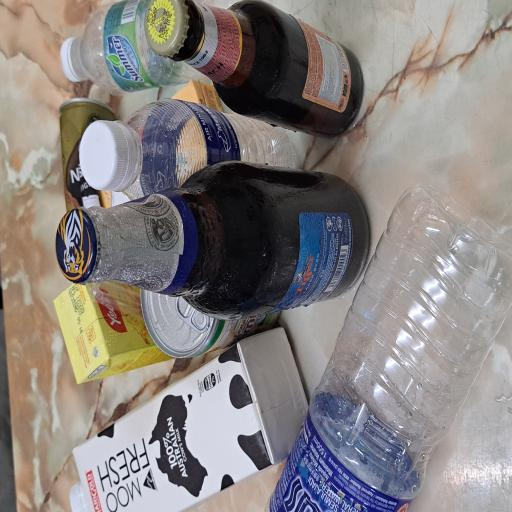can: (114, 184, 173, 378), (213, 78, 311, 152)
drink carton: (0, 96, 140, 419), (96, 73, 177, 228)
glass bottle: (147, 72, 264, 496), (278, 191, 384, 486)
plastic bottle: (0, 347, 247, 512), (234, 162, 310, 398), (315, 96, 384, 274)
plastic bottle cap: (239, 105, 296, 180), (322, 80, 356, 108), (0, 91, 23, 116)
pop tab: (134, 234, 164, 277)
